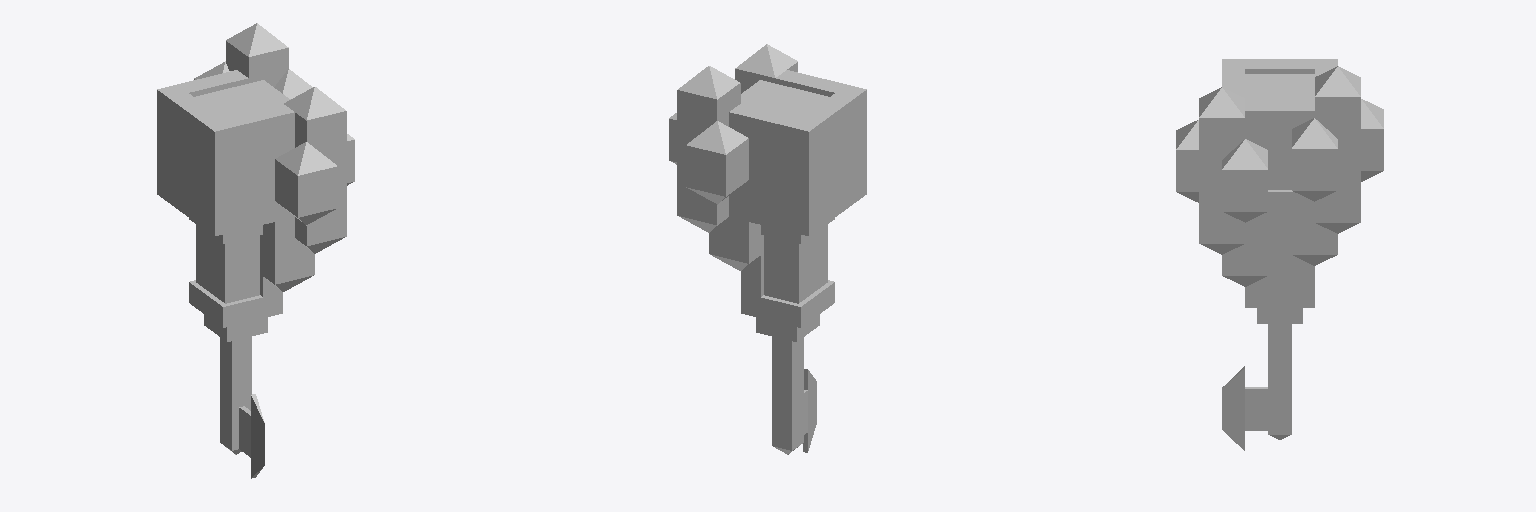
Rendered from arm_axe_r.obj.
The picture shows the model from 3 angles: view 1: azimuth 30°, elevation 25°; view 2: azimuth 150°, elevation 25°; view 3: azimuth 270°, elevation 25°; orthographic projection.
Parts seen in each view (by area): view 1: ARM_RIGHT_AXE_Cube.043, ARM_RIGHT_DECO_DIAMOND_Cube.359; view 2: ARM_RIGHT_AXE_Cube.043, ARM_RIGHT_DECO_DIAMOND_Cube.359; view 3: ARM_RIGHT_DECO_DIAMOND_Cube.359, ARM_RIGHT_AXE_Cube.043.
Boxes of the visible parts, x1,y1,x2,y2 form: ARM_RIGHT_AXE_Cube.043: [157, 70, 294, 478]; ARM_RIGHT_DECO_DIAMOND_Cube.359: [194, 23, 354, 291]; ARM_RIGHT_AXE_Cube.043: [729, 70, 866, 454]; ARM_RIGHT_DECO_DIAMOND_Cube.359: [669, 44, 797, 270]; ARM_RIGHT_DECO_DIAMOND_Cube.359: [1176, 66, 1383, 286]; ARM_RIGHT_AXE_Cube.043: [1222, 59, 1337, 450].
Size of the model in its own units: 0.4375 by 1.22 by 0.5625.